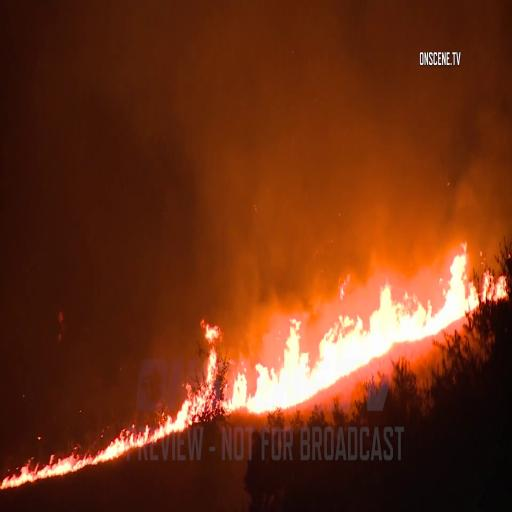fire: (320, 285, 424, 389), (247, 304, 309, 412), (436, 252, 482, 324)
smoke: (207, 11, 404, 250)
